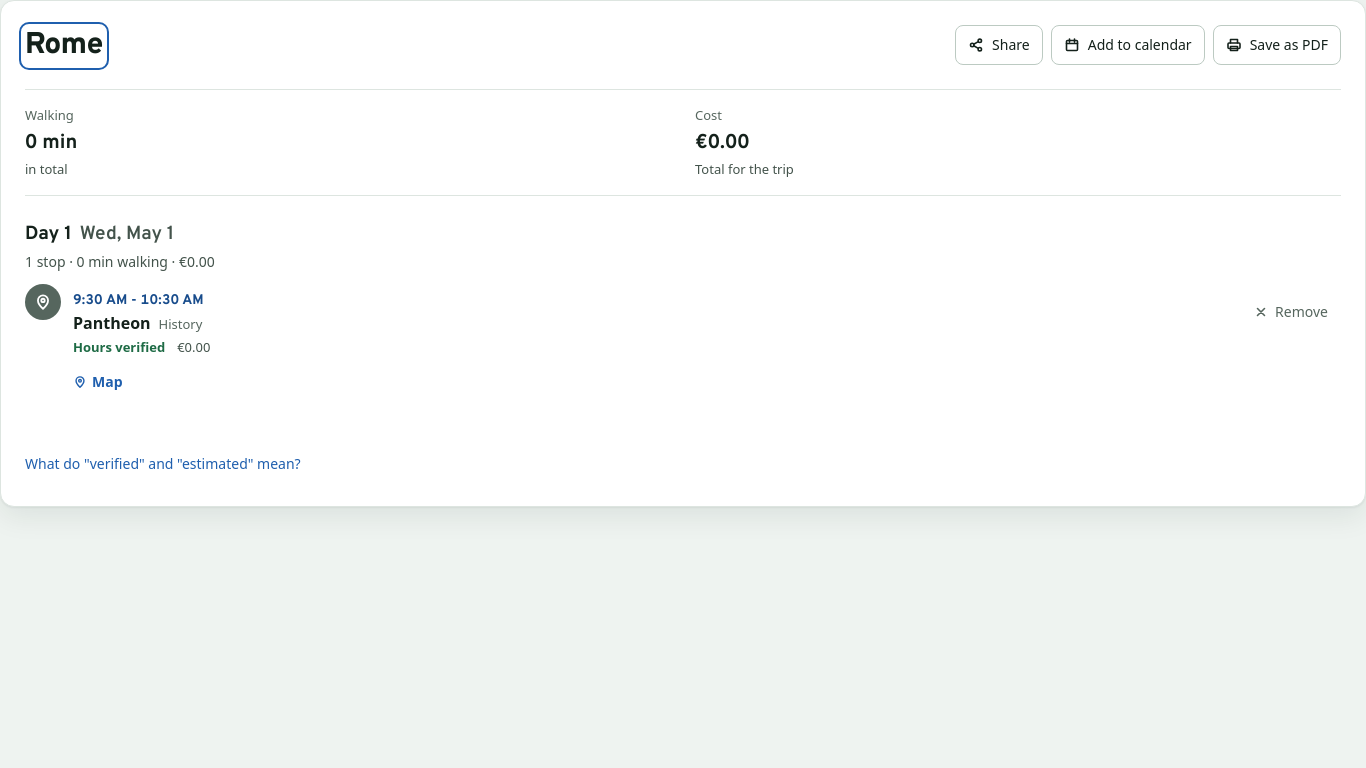
it: Share button › shows the link to copy by hand when the browser won't copy
Click the button "Share" at (999, 45), box x1=955 y1=25 x2=1043 y2=65
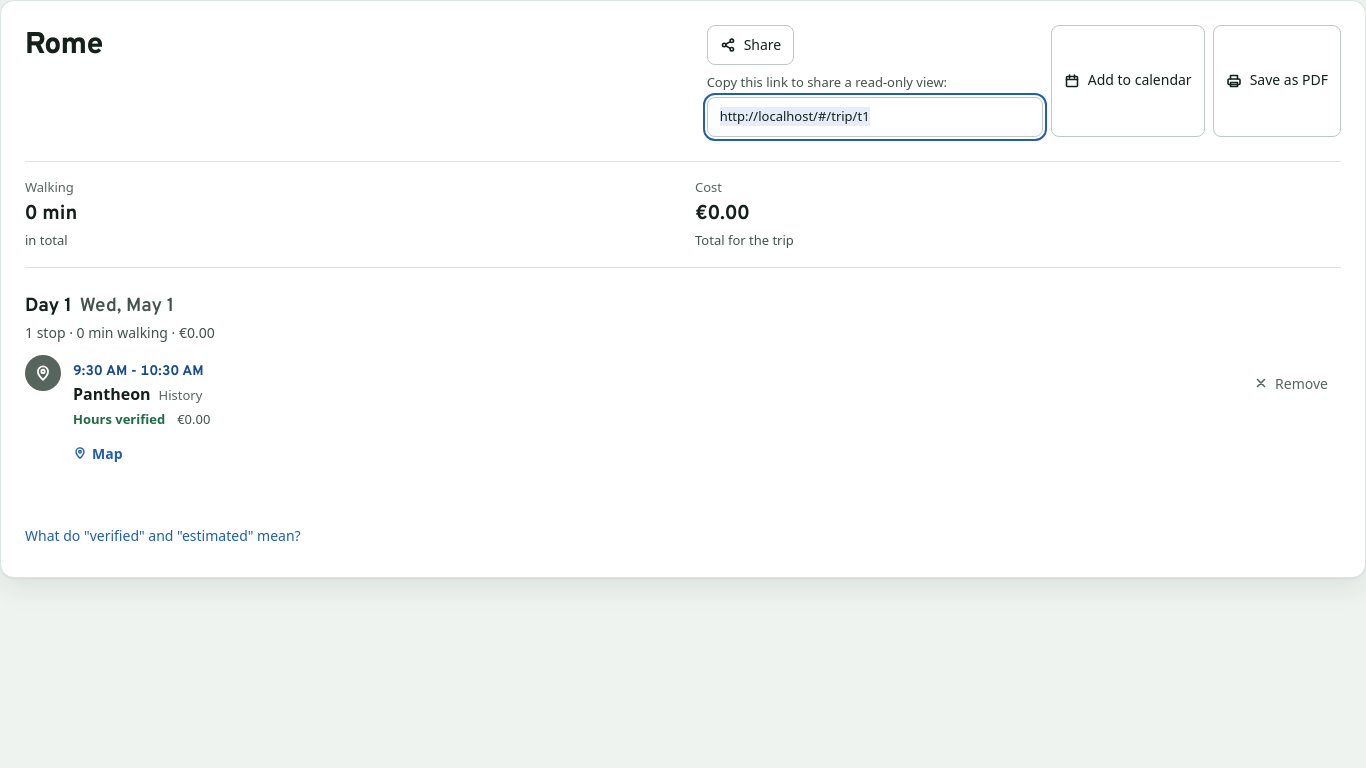
Expected: the field labelled "Copy this link to share a read-only view:" holds "http://localhost/#/trip/t1", x1=707 y1=96 x2=1043 y2=136
